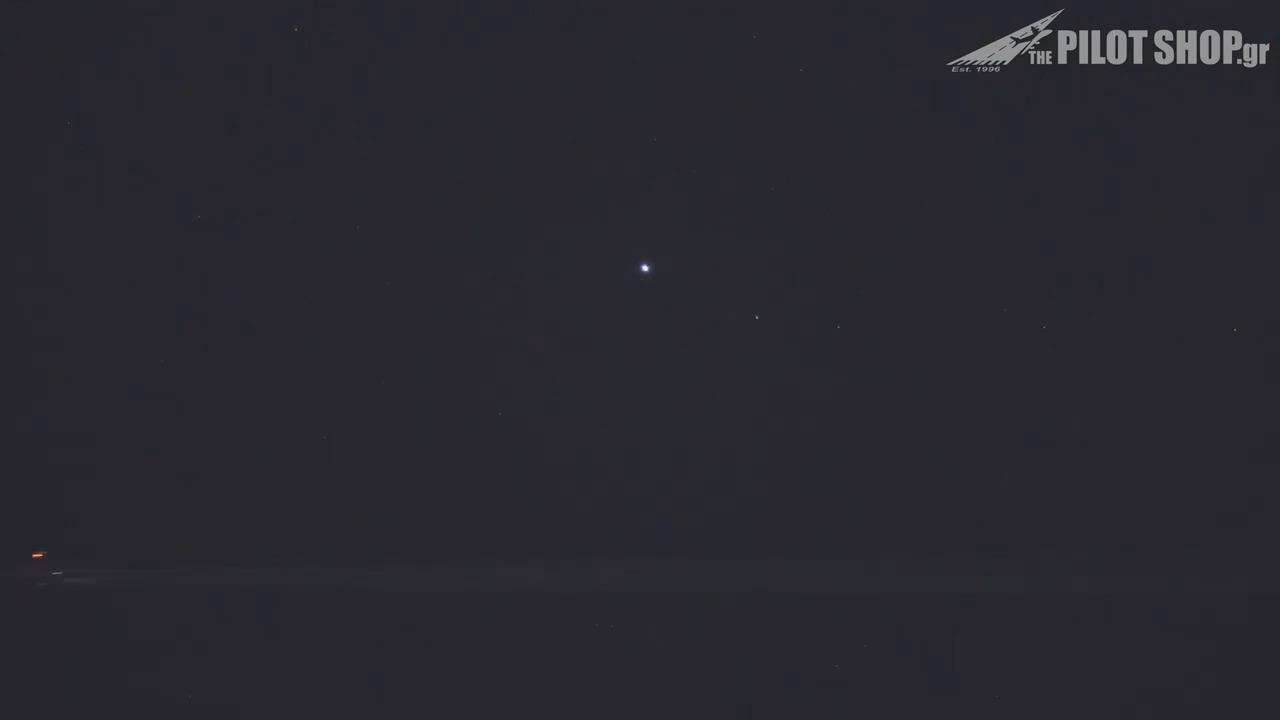Plane: (0, 548, 209, 598)
